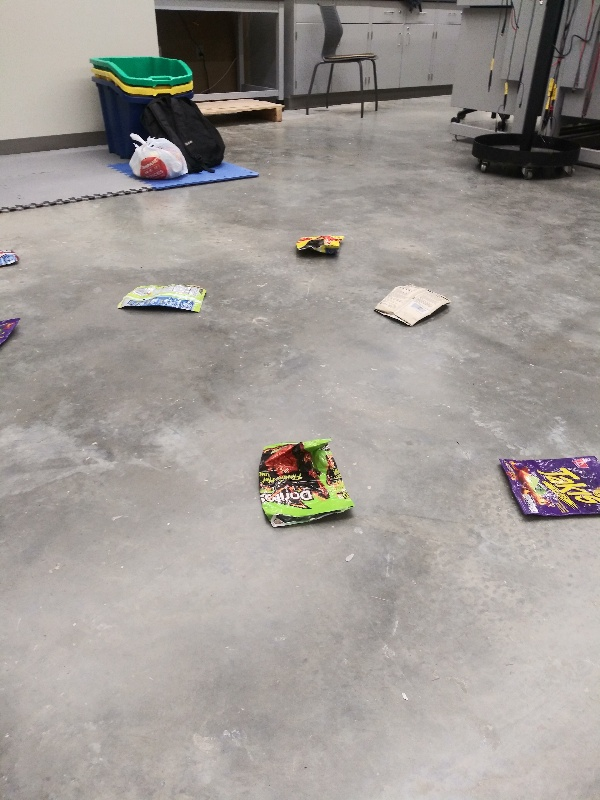bag: (253, 434, 358, 532), (491, 454, 600, 522), (368, 280, 455, 329), (117, 282, 211, 317), (296, 234, 352, 258), (1, 311, 22, 355), (1, 243, 25, 276)
